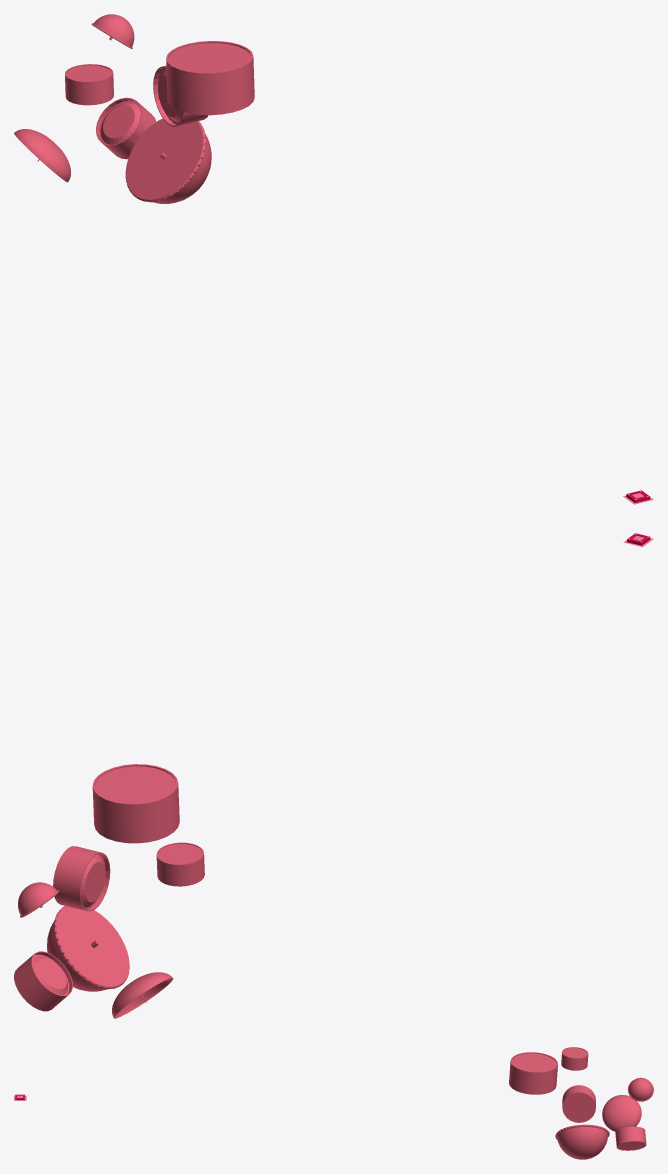
Rendered from Underground entrance_pink.fbx.
The picture shows the model from 3 angles, top to bottom: view 1: azimuth 30°, elevation 25°; view 2: azimuth 150°, elevation 25°; view 3: azimuth 270°, elevation 25°; orthographic projection. The views are drawn at different scales.
Visible parts, largest first — view 1: inc3d_comm_tower:Cylinder03, inc3d_comm_tower:Sphere01, inc3d_comm_tower:Cylinder02, inc3d_comm_tower:Cylinder05, inc3d_comm_tower:satalite01, inc3d_comm_tower:Cylinder01, inc3d_comm_tower:Sphere02; view 2: inc3d_comm_tower:Cylinder03, inc3d_comm_tower:Sphere01, inc3d_comm_tower:Cylinder01, inc3d_comm_tower:Cylinder02, inc3d_comm_tower:Cylinder05, inc3d_comm_tower:satalite01, inc3d_comm_tower:Sphere02; view 3: inc3d_comm_tower:Cylinder03, inc3d_comm_tower:Sphere01, inc3d_comm_tower:satalite01, inc3d_comm_tower:Cylinder01, inc3d_comm_tower:Cylinder02, inc3d_comm_tower:Cylinder05, inc3d_comm_tower:Sphere02.
Boxes of the visible parts, <box> form: inc3d_comm_tower:Cylinder03: <box>166,41,254,115</box>; inc3d_comm_tower:Sphere01: <box>125,118,211,203</box>; inc3d_comm_tower:Cylinder02: <box>96,97,156,159</box>; inc3d_comm_tower:Cylinder05: <box>65,64,113,105</box>; inc3d_comm_tower:satalite01: <box>14,129,70,182</box>; inc3d_comm_tower:Cylinder01: <box>153,65,208,126</box>; inc3d_comm_tower:Sphere02: <box>91,14,134,48</box>; inc3d_comm_tower:Cylinder03: <box>92,764,179,843</box>; inc3d_comm_tower:Sphere01: <box>47,906,129,991</box>; inc3d_comm_tower:Cylinder01: <box>53,846,110,911</box>; inc3d_comm_tower:Cylinder02: <box>14,951,72,1011</box>; inc3d_comm_tower:Cylinder05: <box>156,842,204,886</box>; inc3d_comm_tower:satalite01: <box>112,972,173,1018</box>; inc3d_comm_tower:Sphere02: <box>18,882,58,917</box>; inc3d_comm_tower:Cylinder03: <box>509,1052,557,1094</box>; inc3d_comm_tower:Sphere01: <box>555,1124,609,1159</box>; inc3d_comm_tower:satalite01: <box>602,1095,641,1131</box>; inc3d_comm_tower:Cylinder01: <box>562,1085,595,1122</box>; inc3d_comm_tower:Cylinder02: <box>615,1126,646,1150</box>; inc3d_comm_tower:Cylinder05: <box>561,1047,588,1070</box>; inc3d_comm_tower:Sphere02: <box>627,1077,653,1101</box>.
Size of the model in its own units: 7588 by 8528 by 51159.
